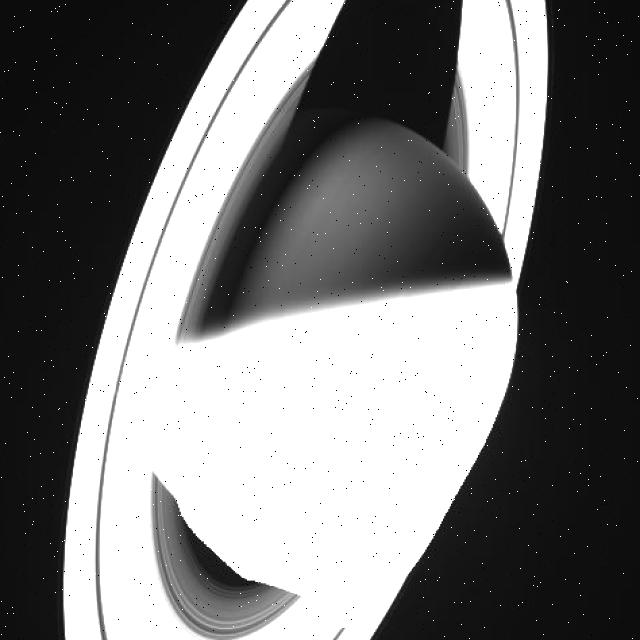Saturn: (61, 0, 545, 640)
